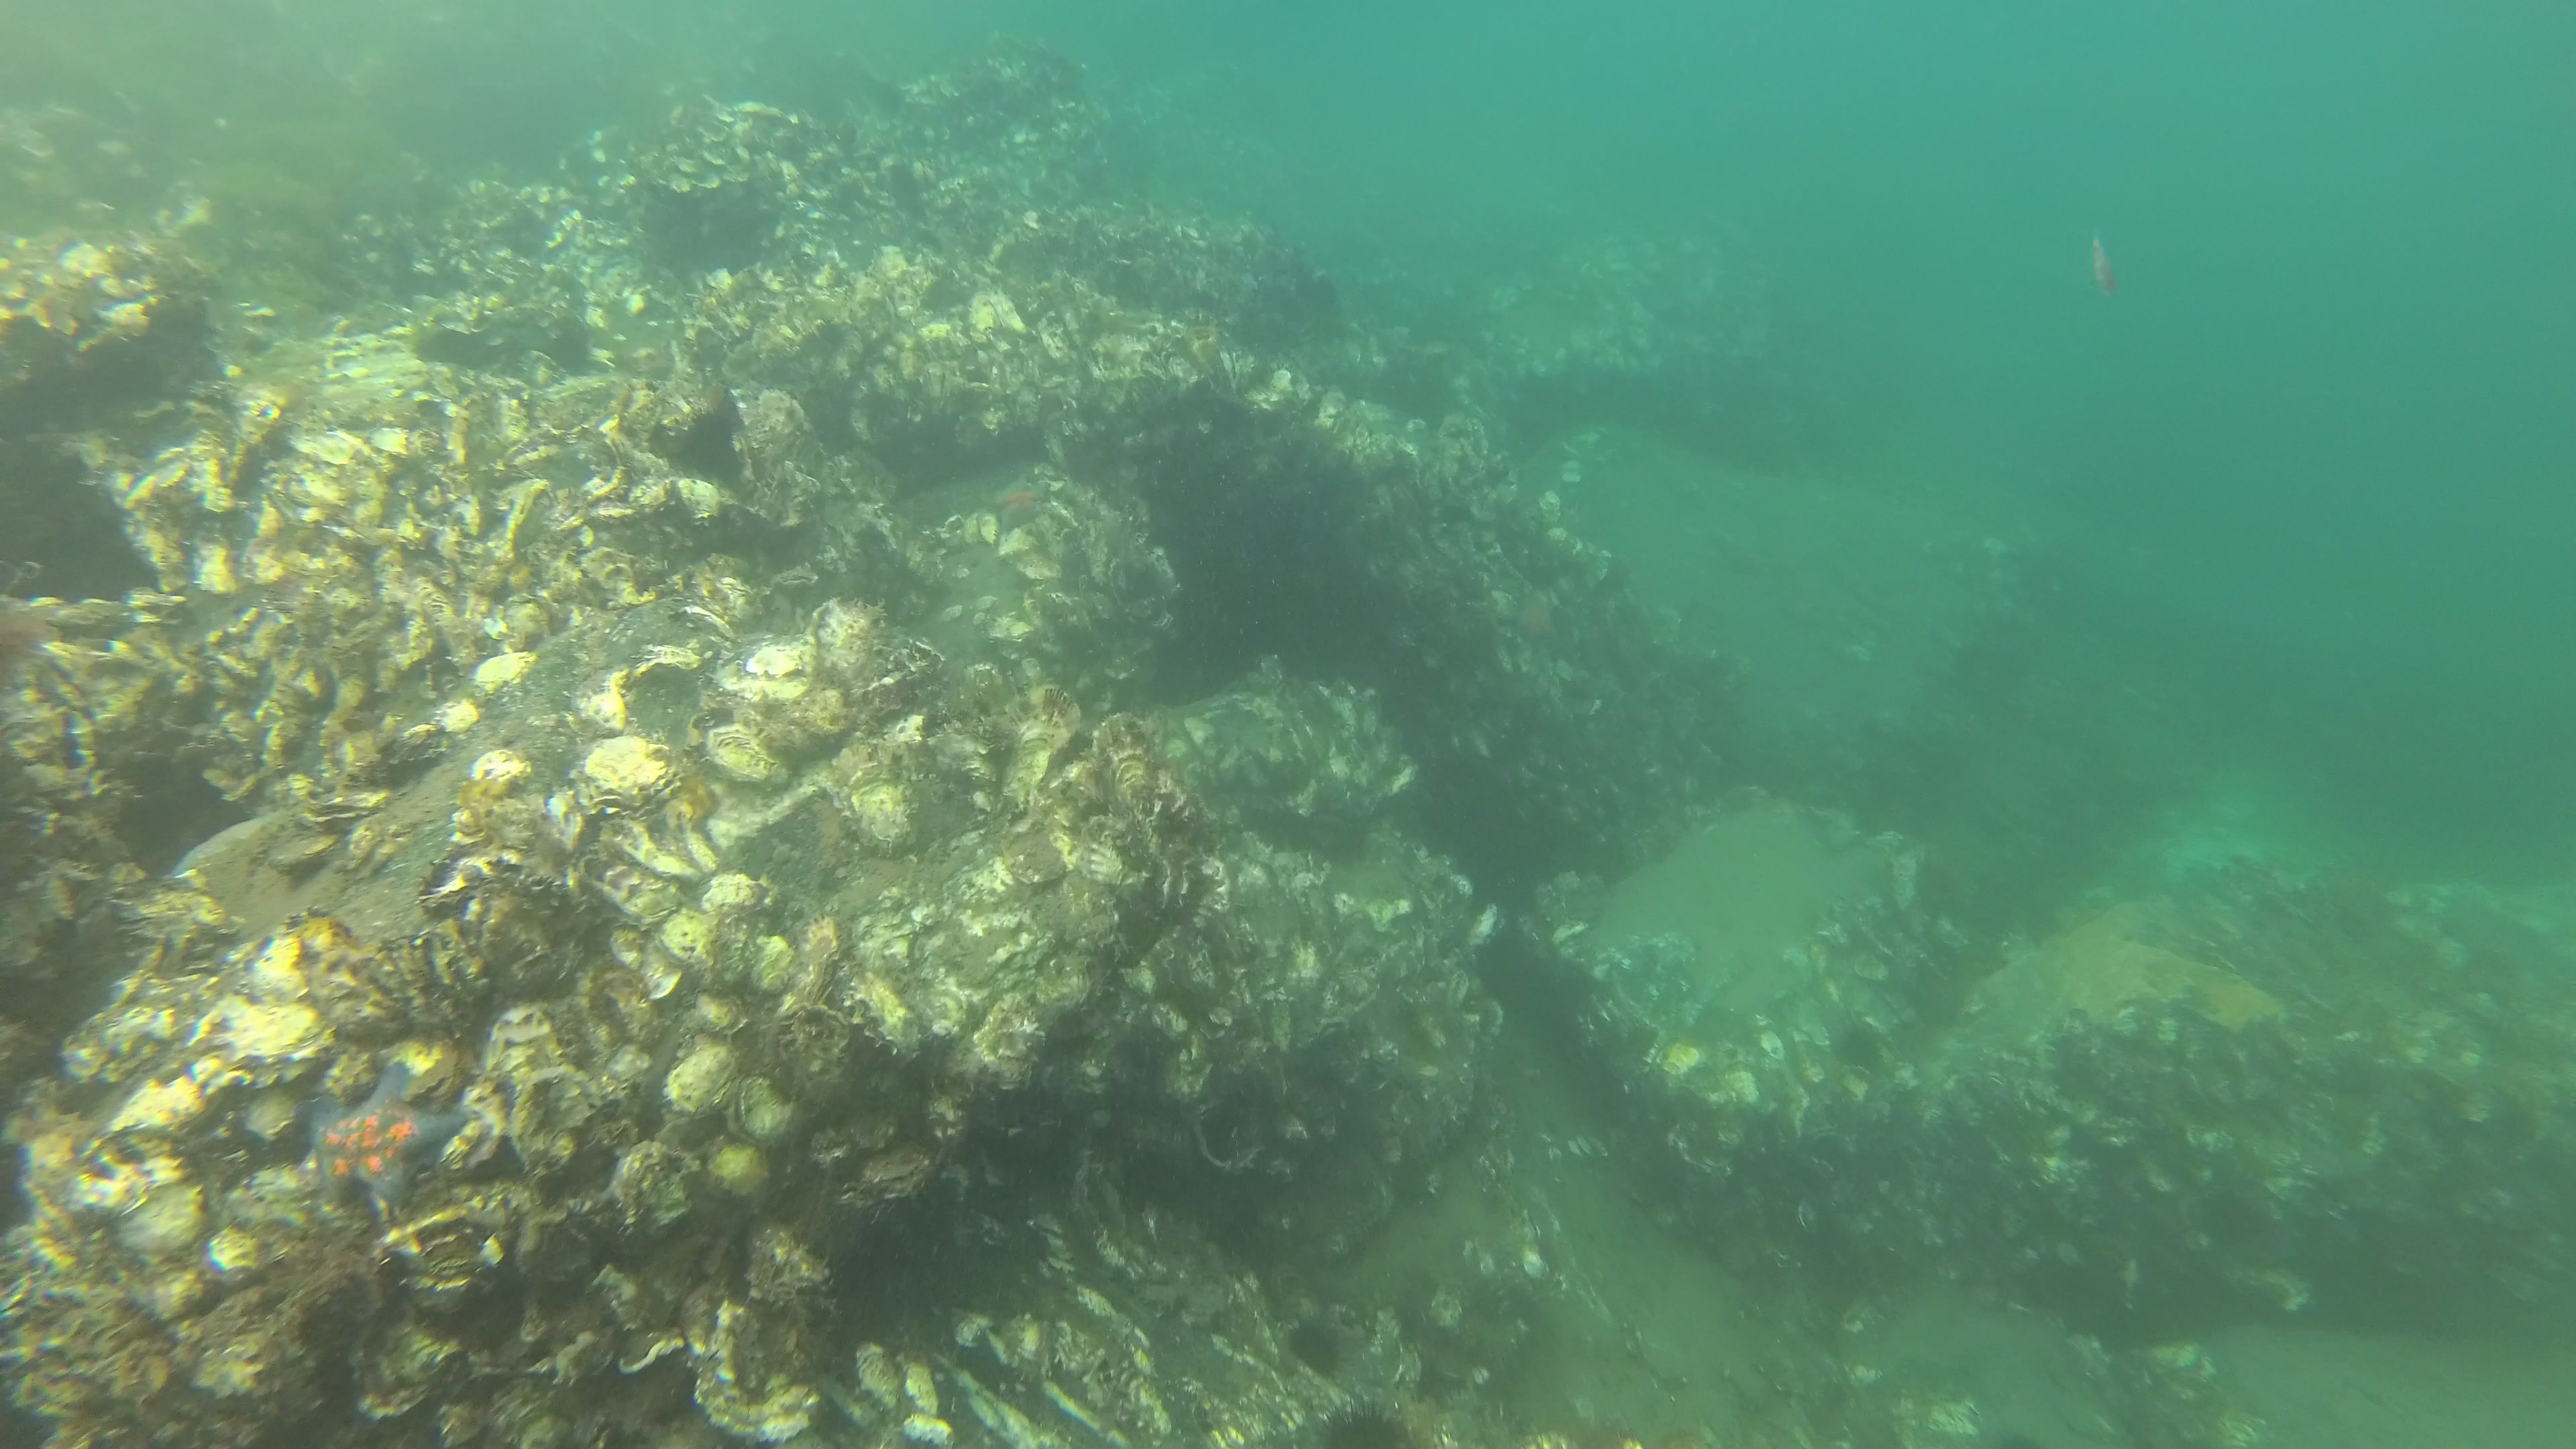starfish: (283, 1067, 465, 1224), (977, 462, 1054, 543)
